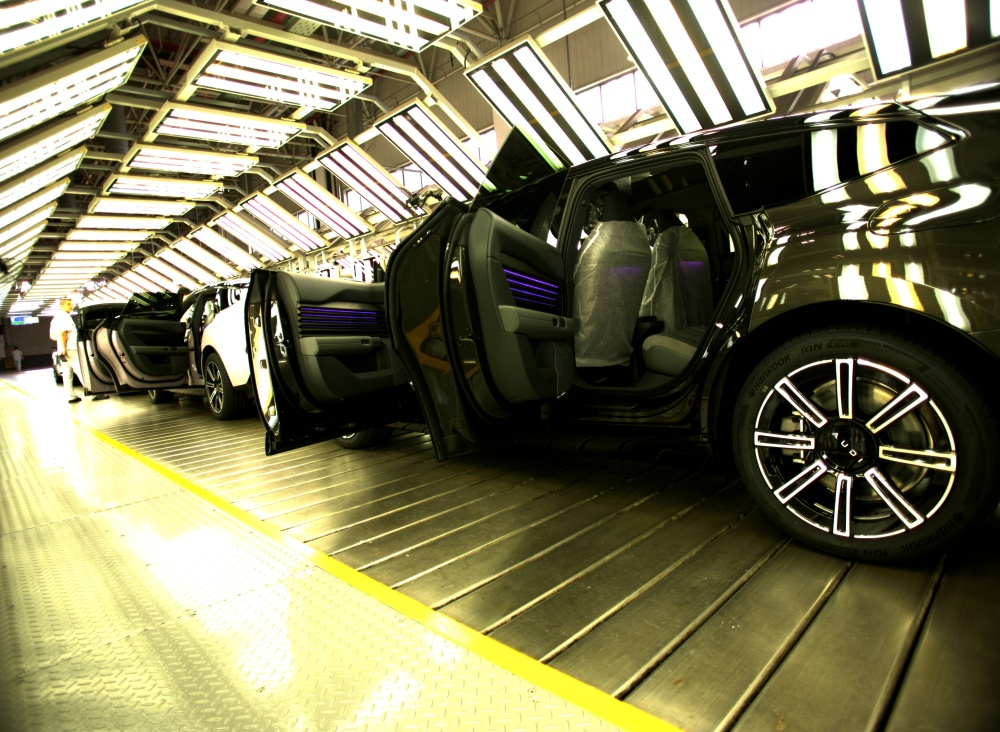armrest_color: (496, 303, 580, 338), (299, 334, 390, 356)
panel_color: (500, 260, 564, 314), (298, 301, 383, 333)
